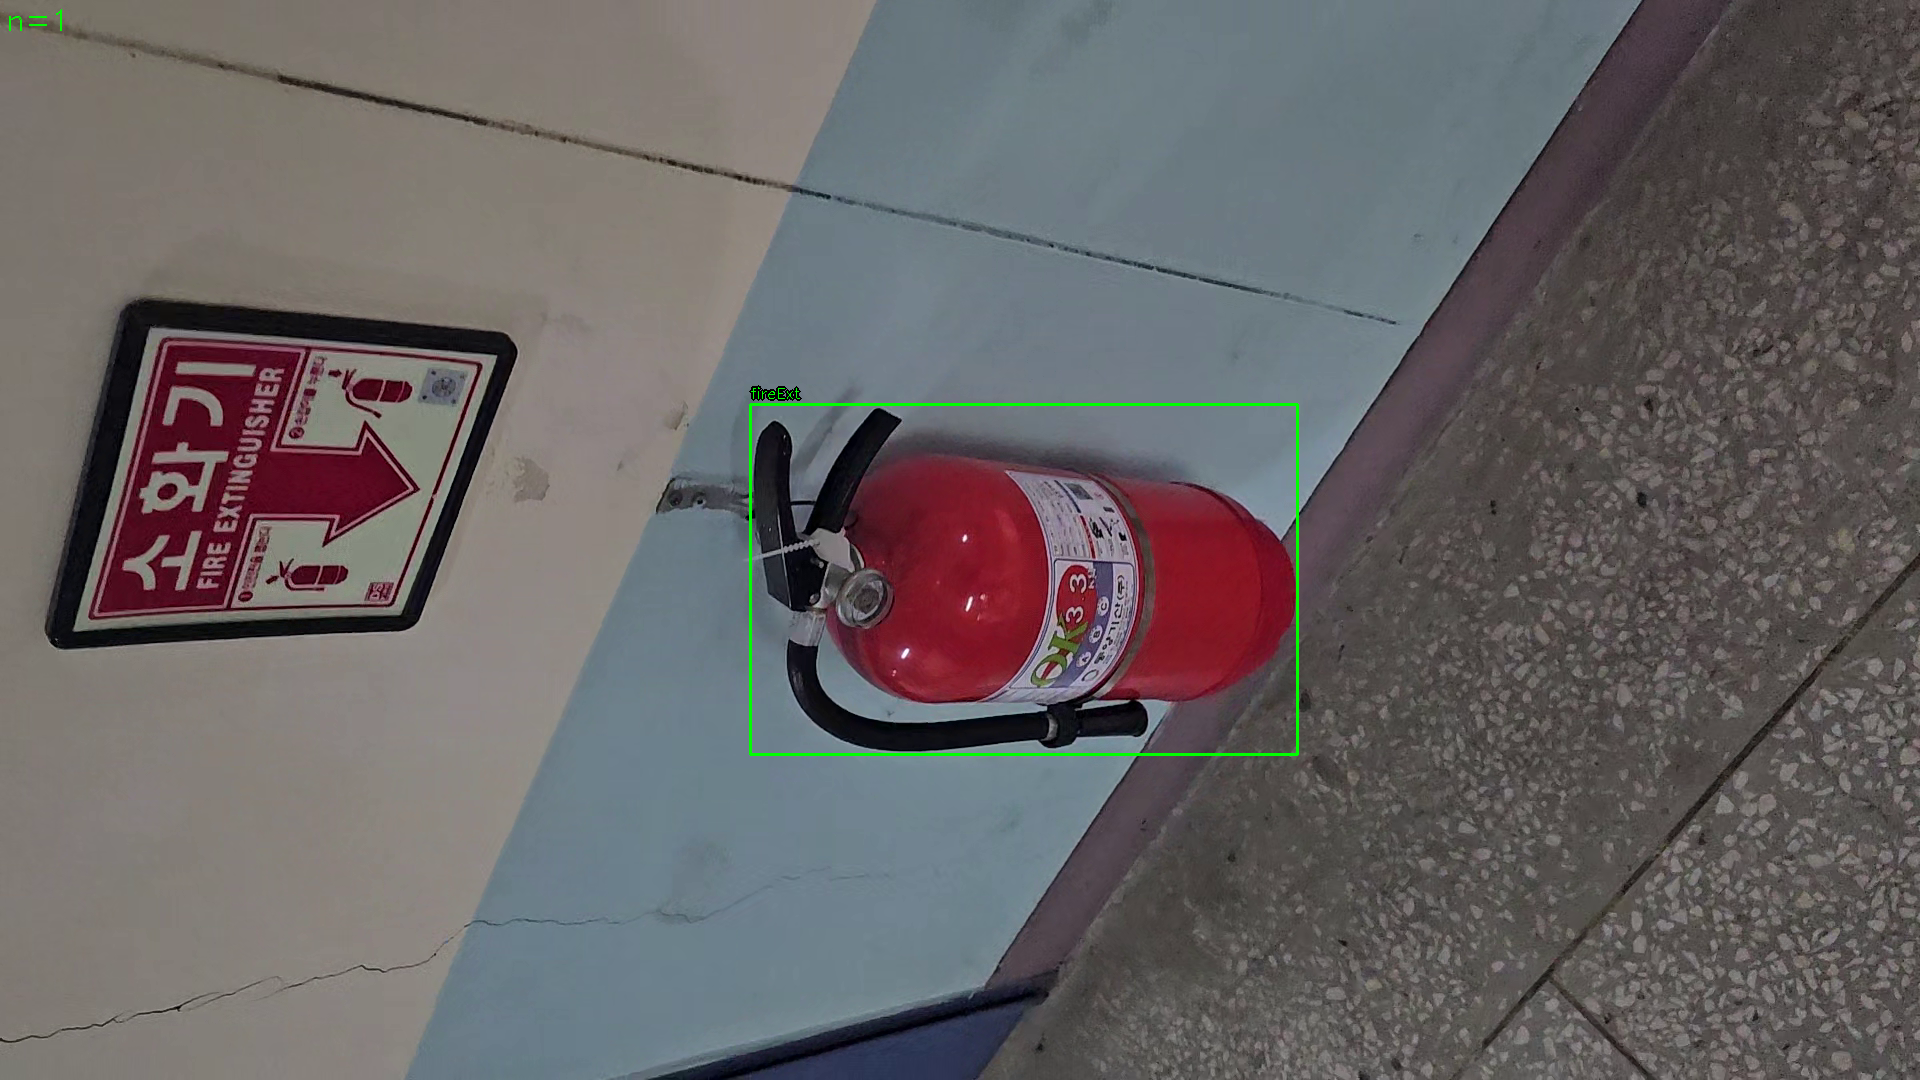lane: (750, 404, 1298, 756)
